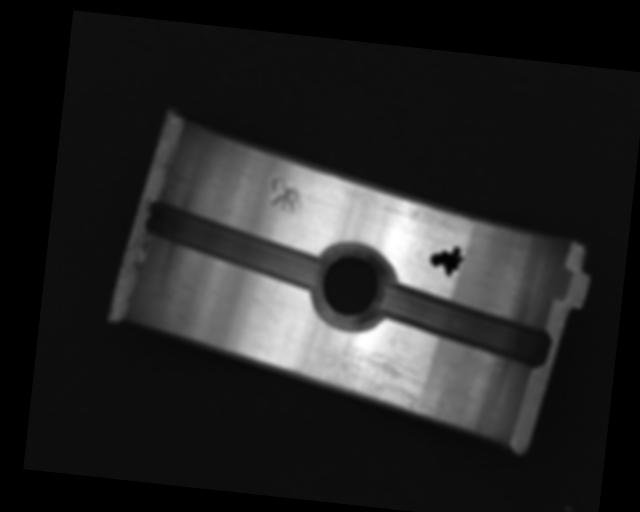blot: (427, 243, 468, 278)
bruise: (267, 175, 306, 213)
gap: (140, 199, 327, 292), (373, 284, 556, 368)
hole: (307, 244, 397, 334)
scratch: (290, 334, 456, 423)
